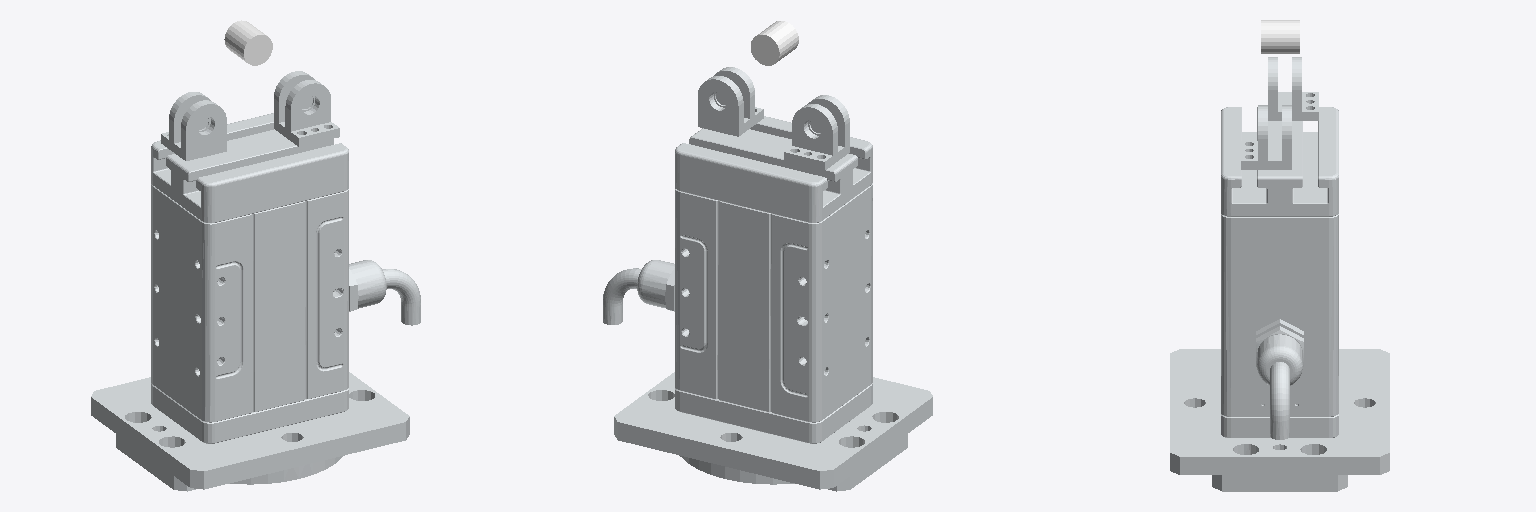
robot.urdf — clipper:
<?xml version="1.0" encoding="utf-8"?>
<!-- This URDF was automatically created by SolidWorks to URDF Exporter! Originally created by [author] ([email redacted]) 
     Commit Version: 1.6.0-1-g15f4949  Build Version: 1.6.7594.29634
     For more information, please see http://wiki.ros.org/sw_urdf_exporter -->
<robot
  name="clipper">
  <link
    name="clipper_link">
    <inertial>
      <origin
        xyz="0.00039271 -3.2693E-06 0.031305"
        rpy="0 0 0" />
      <mass
        value="0.26474" />
      <inertia
        ixx="9.0177E-05"
        ixy="-6.2509E-09"
        ixz="-1.4571E-07"
        iyy="0.00012015"
        iyz="-2.1137E-09"
        izz="0.00012976" />
    </inertial>
    <visual>
      <origin
        xyz="0 0 0"
        rpy="0 0 0" />
      <geometry>
        <mesh
          filename="package://clipper/meshes/clipper_link.STL" />
      </geometry>
      <material
        name="">
        <color
          rgba="0.89804 0.91765 0.92941 1" />
      </material>
    </visual>
    <collision>
      <origin
        xyz="0 0 0"
        rpy="0 0 0" />
      <geometry>
        <mesh
          filename="package://clipper/meshes/clipper_link.STL" />
      </geometry>
    </collision>
  </link>
  <link
    name="gripper_left_link">
    <inertial>
      <origin
        xyz="-0.0061904 -0.0067029 1.0408E-17"
        rpy="0 0 0" />
      <mass
        value="0.003954" />
      <inertia
        ixx="1.2851E-07"
        ixy="-1.4783E-08"
        ixz="-6.8432E-24"
        iyy="1.6215E-07"
        iyz="6.6115E-25"
        izz="1.5904E-07" />
    </inertial>
    <visual>
      <origin
        xyz="0 0 0"
        rpy="0 0 0" />
      <geometry>
        <mesh
          filename="package://clipper/meshes/gripper_left_link.STL" />
      </geometry>
      <material
        name="">
        <color
          rgba="0.89804 0.91765 0.92941 1" />
      </material>
    </visual>
    <collision>
      <origin
        xyz="0 0 0"
        rpy="0 0 0" />
      <geometry>
        <mesh
          filename="package://clipper/meshes/gripper_left_link.STL" />
      </geometry>
    </collision>
  </link>
  <joint
    name="gripper_left_joint"
    type="fixed">
    <origin
      xyz="-0.017 0.009 0.099"
      rpy="0 1.5708 0" />
    <parent
      link="clipper_link" />
    <child
      link="gripper_left_link" />
    <axis
      xyz="0 0 1" />
    <limit
      lower="0"
      upper="0"
      effort="0"
      velocity="0" />
  </joint>
  
  <link
    name="gripper_right_link">
    <inertial>
      <origin
        xyz="-0.0061904 0.0067029 -4.5797E-16"
        rpy="0 0 0" />
      <mass
        value="0.003954" />
      <inertia
        ixx="1.2851E-07"
        ixy="1.4783E-08"
        ixz="-1.652E-21"
        iyy="1.6215E-07"
        iyz="4.3323E-22"
        izz="1.5904E-07" />
    </inertial>
    <visual>
      <origin
        xyz="0 0 0"
        rpy="0 0 0" />
      <geometry>
        <mesh
          filename="package://clipper/meshes/gripper_right_link.STL" />
      </geometry>
      <material
        name="">
        <color
          rgba="0.89804 0.91765 0.92941 1" />
      </material>
    </visual>
    <collision>
      <origin
        xyz="0 0 0"
        rpy="0 0 0" />
      <geometry>
        <mesh
          filename="package://clipper/meshes/gripper_right_link.STL" />
      </geometry>
    </collision>
  </link>
  <joint
    name="gripper_right_joint"
    type="fixed">
    <origin
      xyz="0.017 -0.009 0.099"
      rpy="0 1.5708 0" />
    <parent
      link="clipper_link" />
    <child
      link="gripper_right_link" />
    <axis
      xyz="0 0 -1" />
    <limit
      lower="0"
      upper="0"
      effort="0"
      velocity="0" />
  </joint>

  <link
    name="clipper_revolute_link">
    <inertial>
      <origin
        xyz="-1.3564E-18 0 -0.006"
        rpy="0 0 0" />
      <mass
        value="0.0023562" />
      <inertia
        ixx="1.9144E-07"
        ixy="2.5849E-25"
        ixz="-3.7275E-23"
        iyy="1.9144E-07"
        iyz="-3.3087E-24"
        izz="2.9452E-08" />
    </inertial>
    <visual>
      <origin
        xyz="0 0 0"
        rpy="0 0 0" />
      <geometry>
        <mesh
          filename="package://clipper/meshes/clipper_revolute3_link.STL" />
      </geometry>
      <material
        name="">
        <color
          rgba="1 1 1 1" />
      </material>
    </visual>
    <collision>
      <origin
        xyz="0 0 0"
        rpy="0 0 0" />
      <geometry>
        <mesh
          filename="package://clipper/meshes/clipper_revolute3_link.STL" />
      </geometry>
    </collision>
  </link>

  <joint name="revolute_joint" type="fixed">
    <origin xyz="0 0 .131" rpy="-1.5708 0 0" />
    <child link="clipper_revolute_link"/>
    <parent link="clipper_link"/>
  </joint>

  <link name="base"/>
  <joint name="base_joint" type="floating">
    <origin xyz="0 0 0" rpy="0 0 0" />
    <child link="clipper_link"/>
    <parent link="base"/>
  </joint>

</robot>

--- Facts derived from the render (not from the file) ---
3 views of the same robot in one strip: view 1: azimuth 30°, elevation 25°; view 2: azimuth 150°, elevation 25°; view 3: azimuth 270°, elevation 25° (orthographic).
Robot: clipper — 5 links, 4 joints (3 fixed, 1 floating); root link base; default pose: every joint at zero.
Links seen in each view (by area): view 1: clipper_link, gripper_right_link, gripper_left_link, clipper_revolute_link; view 2: clipper_link, gripper_left_link, gripper_right_link, clipper_revolute_link; view 3: clipper_link, gripper_right_link, gripper_left_link, clipper_revolute_link.
Boxes of the visible links, x1=… form: clipper_link: x1=91, y1=113, x2=420, y2=491; gripper_right_link: x1=274, y1=71, x2=339, y2=146; gripper_left_link: x1=161, y1=92, x2=226, y2=160; clipper_revolute_link: x1=224, y1=20, x2=272, y2=65; clipper_link: x1=603, y1=116, x2=932, y2=491; gripper_left_link: x1=784, y1=95, x2=849, y2=170; gripper_right_link: x1=698, y1=67, x2=763, y2=136; clipper_revolute_link: x1=751, y1=21, x2=798, y2=65; clipper_link: x1=1170, y1=107, x2=1389, y2=491; gripper_right_link: x1=1241, y1=105, x2=1291, y2=169; gripper_left_link: x1=1268, y1=57, x2=1318, y2=120; clipper_revolute_link: x1=1261, y1=20, x2=1299, y2=53.
Size in the robot's own frame: 0.0955 by 0.065 by 0.1377 metres.
4 mesh visuals loaded from 4 distinct referenced files (4 binary STL).